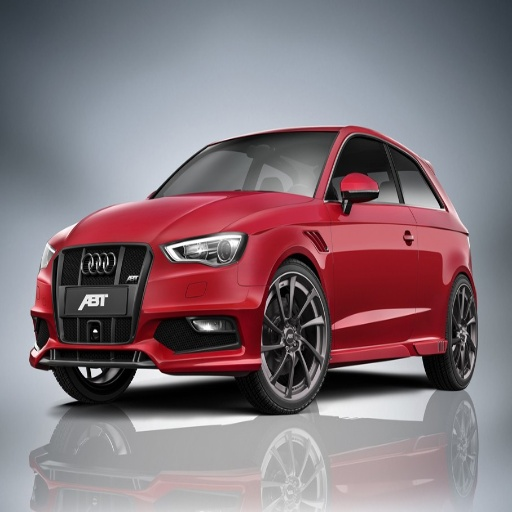back_glass: (387, 141, 454, 338)
back_right_light: (32, 242, 269, 375)
front_bumper: (150, 132, 337, 198)
front_glass: (323, 132, 417, 351)
front_left_door: (160, 230, 248, 267)
front_right_light: (57, 192, 310, 247)
trunk: (254, 261, 328, 413), (427, 279, 477, 390), (449, 412, 478, 498), (59, 367, 132, 400)
